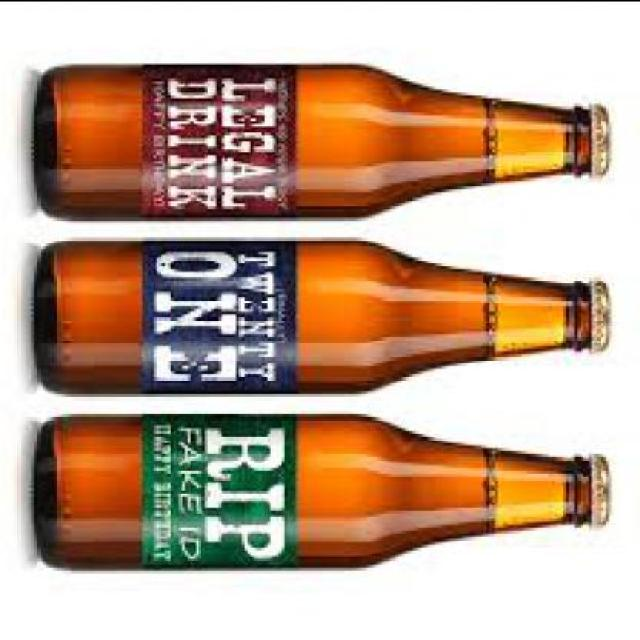GLASS: (34, 233, 594, 393), (37, 406, 594, 566), (34, 59, 592, 216)
METAL: (597, 273, 617, 347), (600, 452, 617, 517), (598, 97, 612, 171)
